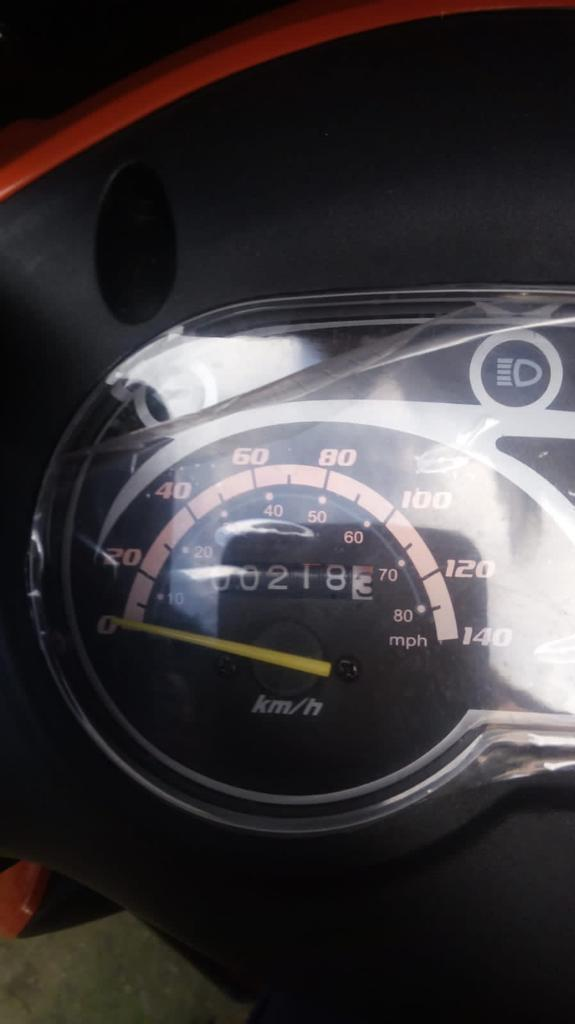0: (209, 564, 232, 593), (238, 563, 260, 591)
2: (265, 563, 289, 591), (300, 564, 312, 591)
3: (354, 570, 375, 597)
8: (325, 564, 347, 591)
odometer: (206, 561, 376, 601)
